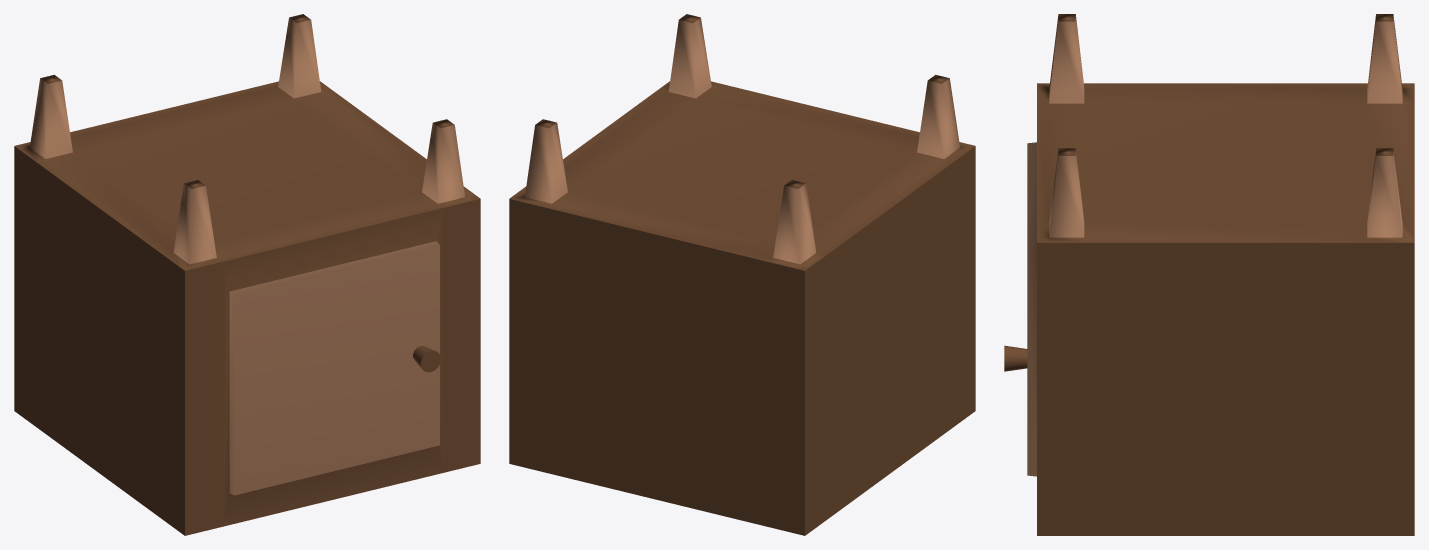
File: Dresser.fbx
3 views of the same model, side by side, from view 1: azimuth 30°, elevation 25°; view 2: azimuth 150°, elevation 25°; view 3: azimuth 270°, elevation 25° (orthographic). The views are drawn at different scales.
Parts seen in each view (by area): view 1: pCube96_pCylinder16; view 2: pCube96_pCylinder16; view 3: pCube96_pCylinder16.
Boxes of the visible parts, <box> form: pCube96_pCylinder16: <box>14,14,480,535</box>; pCube96_pCylinder16: <box>509,14,975,535</box>; pCube96_pCylinder16: <box>1004,14,1414,535</box>.
Bounding box in the file's own units: 1000 × 1085 × 1087.
